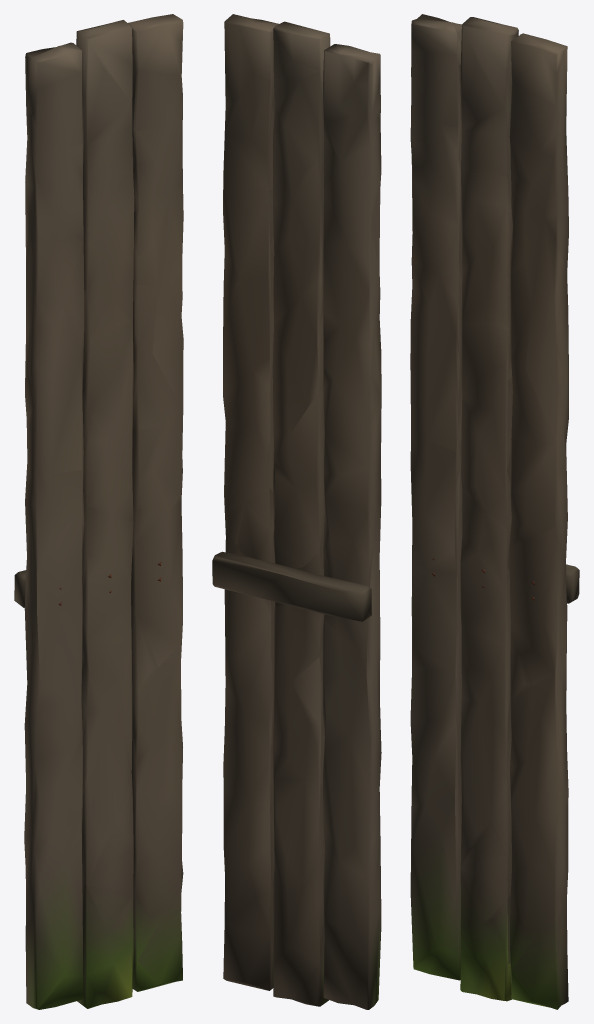
Rendered from mire_fence_board_lod1.glb.
The picture shows the model from 3 angles, left to right: view 1: azimuth 30°, elevation 25°; view 2: azimuth 150°, elevation 25°; view 3: azimuth 330°, elevation 25°; orthographic projection.
Parts seen in each view (by area): view 1: mire_fence_board.001; view 2: mire_fence_board.001; view 3: mire_fence_board.001.
Part boxes in pixels (x1,y1,x2,y2): mire_fence_board.001: (14,14,183,1009); mire_fence_board.001: (212,14,381,1009); mire_fence_board.001: (410,14,579,1009).
Bounding box in the file's own units: 12.18 × 74.57 × 3.06.
